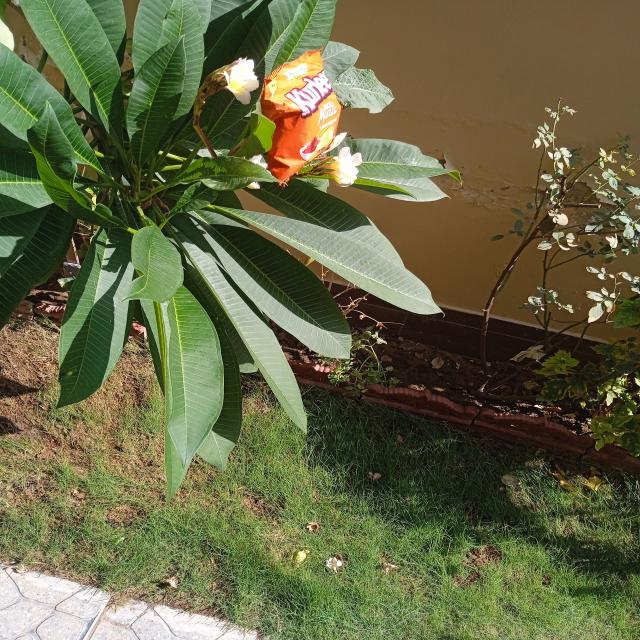Plastic: (254, 46, 351, 189)
